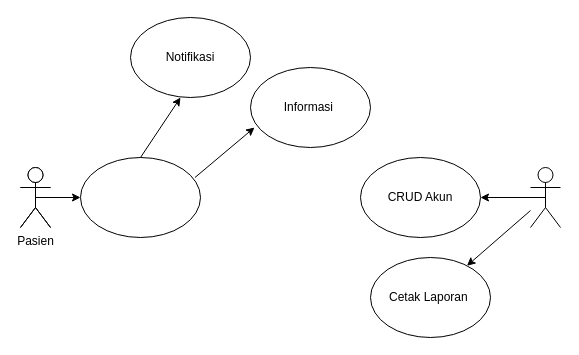
Some shapes in this 579 by 355 pixel diagram are drawn without their labels. Here are the shapes that lost their labels. From the top down, the box of each, then its label:
(80, 156, 200, 238): Daftar
(530, 166, 560, 228): admin
